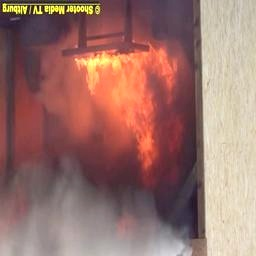fire: (32, 25, 199, 191)
